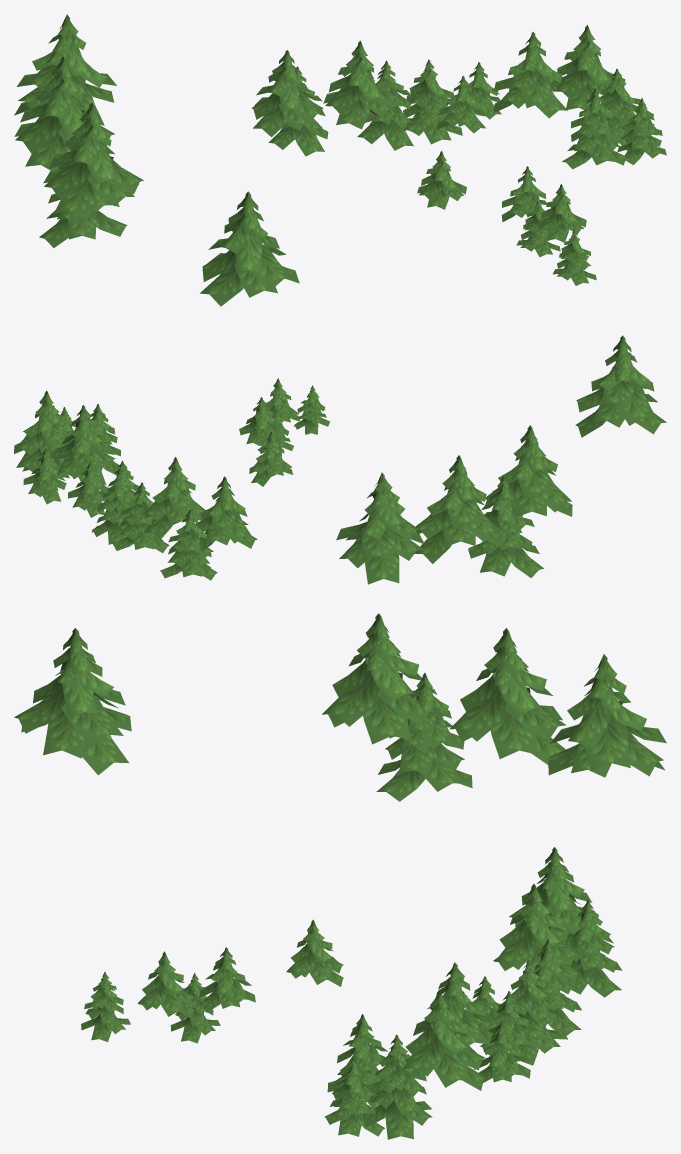
Rendered from songshuye_09.FBX.
3 views of the same model, one above another, from view 1: azimuth 30°, elevation 25°; view 2: azimuth 150°, elevation 25°; view 3: azimuth 270°, elevation 25° (orthographic). The views are drawn at different scales.
Parts seen in each view (by area): view 1: Object041; view 2: Object041; view 3: Object041.
Part boxes in pixels (x1,y1,x2,y2): Object041: (14,14,666,306); Object041: (14,335,666,584); Object041: (14,613,666,1139).
Bounding box in the file's own units: 4502 × 1286 × 3615.
